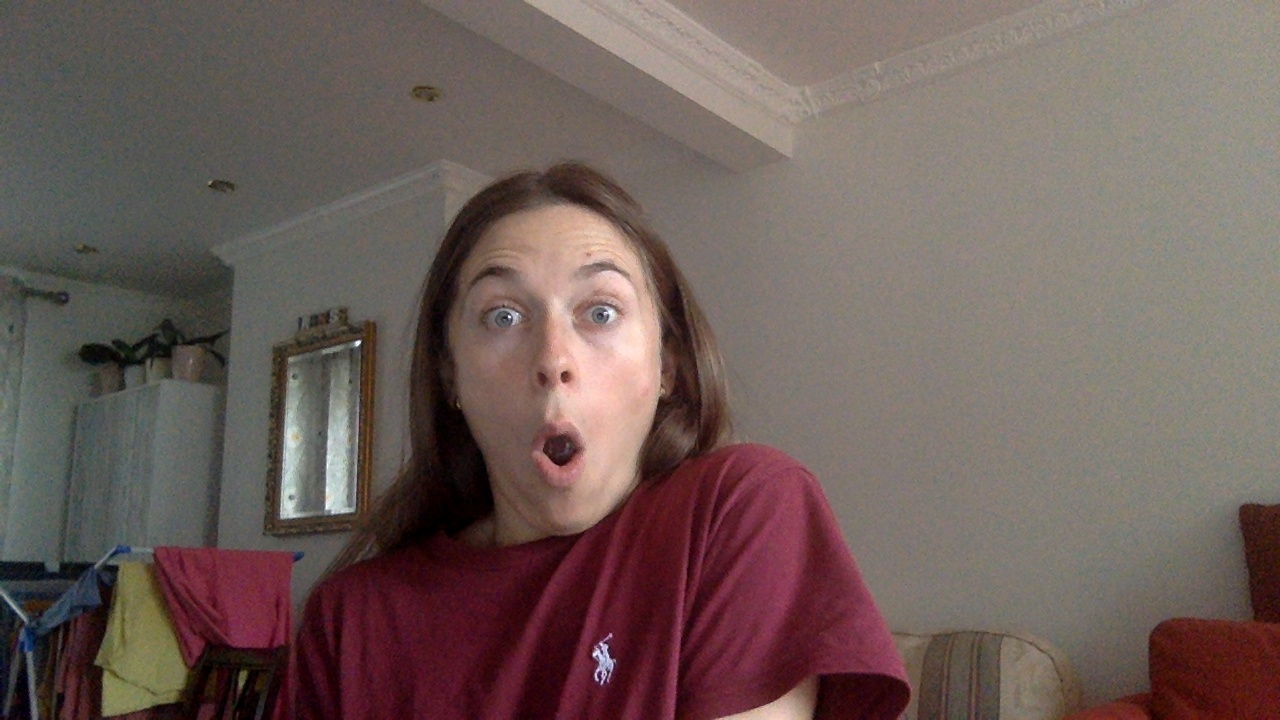surprise: (529, 419, 590, 489)
